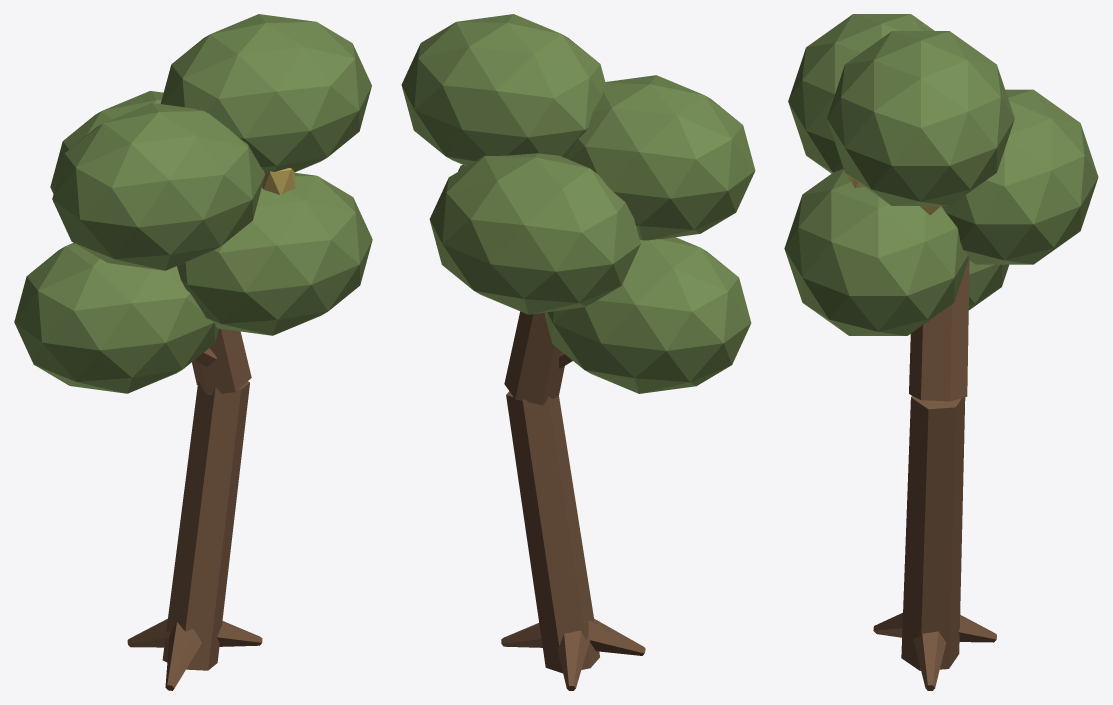
The model's file is map-boundaries-v5__farm_09.glb.
The picture shows the model from 3 angles, left to right: view 1: azimuth 30°, elevation 25°; view 2: azimuth 150°, elevation 25°; view 3: azimuth 270°, elevation 25°; orthographic projection. The views are drawn at different scales.
Parts seen in each view (by area): view 1: farm_09; view 2: farm_09; view 3: farm_09.
Part boxes in pixels (box(x1,y1,x2,y2)): farm_09: box(14, 14, 372, 690); farm_09: box(401, 14, 755, 690); farm_09: box(784, 14, 1098, 690).
Bounding box in the file's own units: 2.02 × 3.69 × 1.61.
